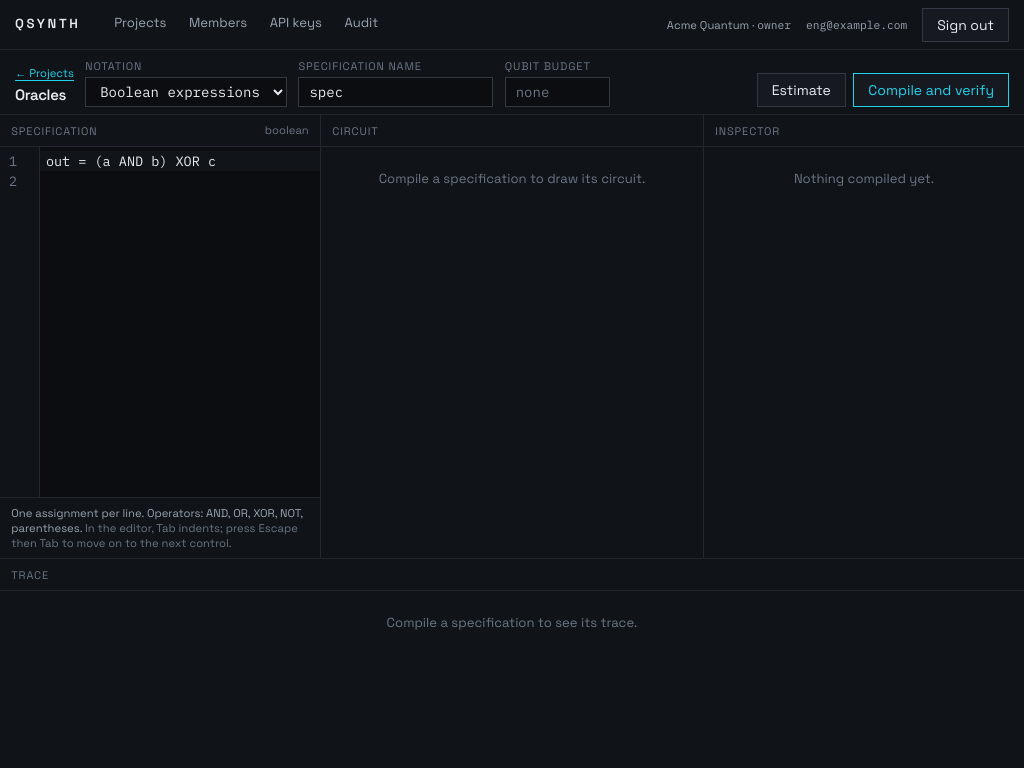
Scenario: the workbench › follows a failed compile to its job and shows the failing check
Check: the heading "Oracles" is shown, box [15,84,74,107]
Click the button "Compile and verify" at (931, 90), box [853,73,1009,107]
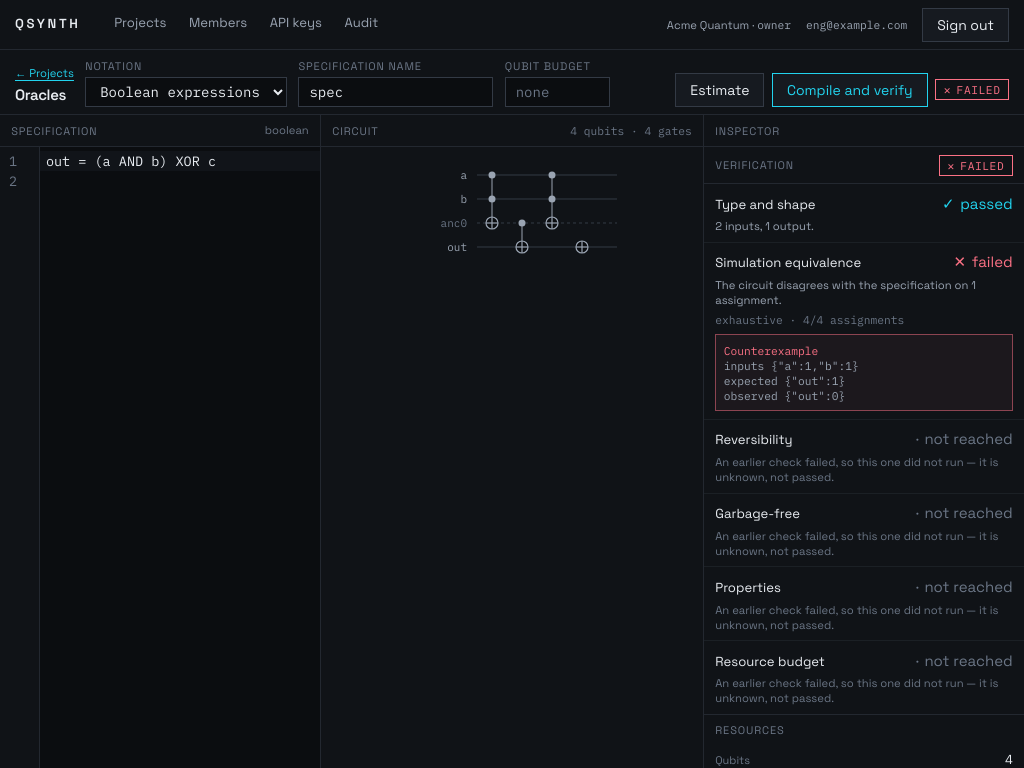
Check: the text "The circuit disagrees with the specification on 1 assignment." is shown, box [715,278,1013,308]
Check: the text "inputs {\"a\":1,\"b\":1}" is shown, box [724,358,859,373]
Check: the text "not reached" is shown 4 times, box [916,427,1013,451]; [916,501,1013,525]; [916,575,1013,599]; [916,648,1013,672]
